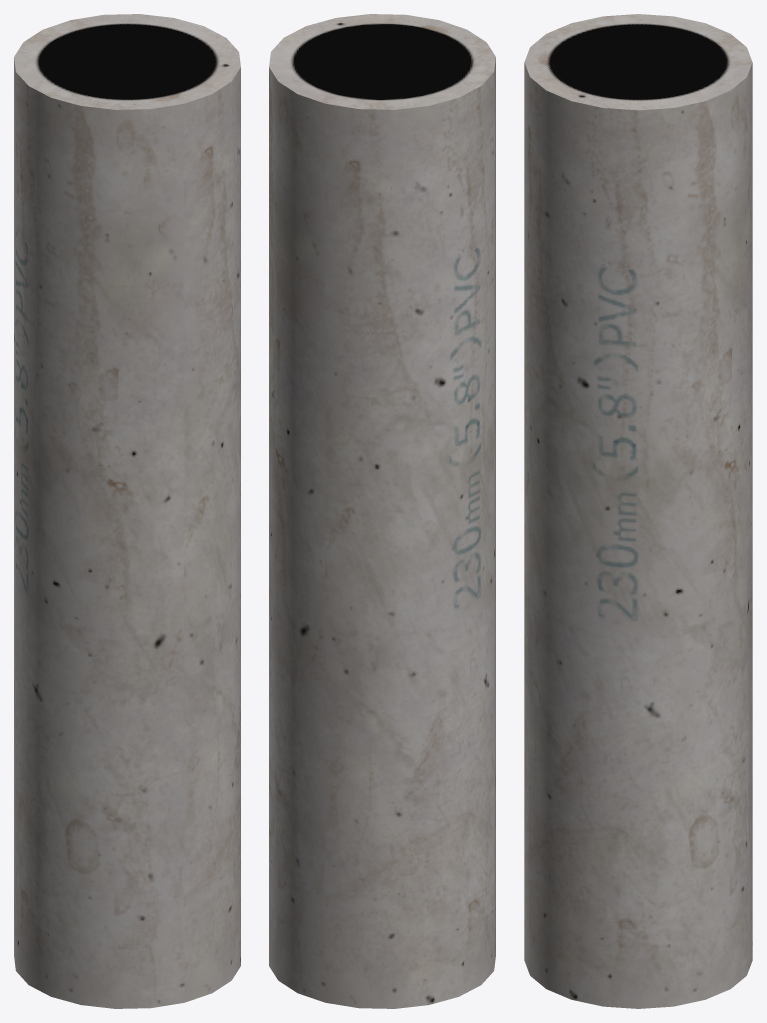
File: PlasticPipe_09a_snaps019.fbx
3 renders of one model, left to right at view 1: azimuth 30°, elevation 25°; view 2: azimuth 150°, elevation 25°; view 3: azimuth 270°, elevation 25°, orthographic.
Parts seen in each view (by area): view 1: PlasticPipe_09a_snaps019_LOD0; view 2: PlasticPipe_09a_snaps019_LOD0; view 3: PlasticPipe_09a_snaps019_LOD0.
Part boxes in pixels (x1,y1,x2,y2): PlasticPipe_09a_snaps019_LOD0: (14,14,240,1008); PlasticPipe_09a_snaps019_LOD0: (269,14,495,1008); PlasticPipe_09a_snaps019_LOD0: (524,14,752,1008).
Size of what is drawn, in the model's own units: 23 by 100 by 23.
